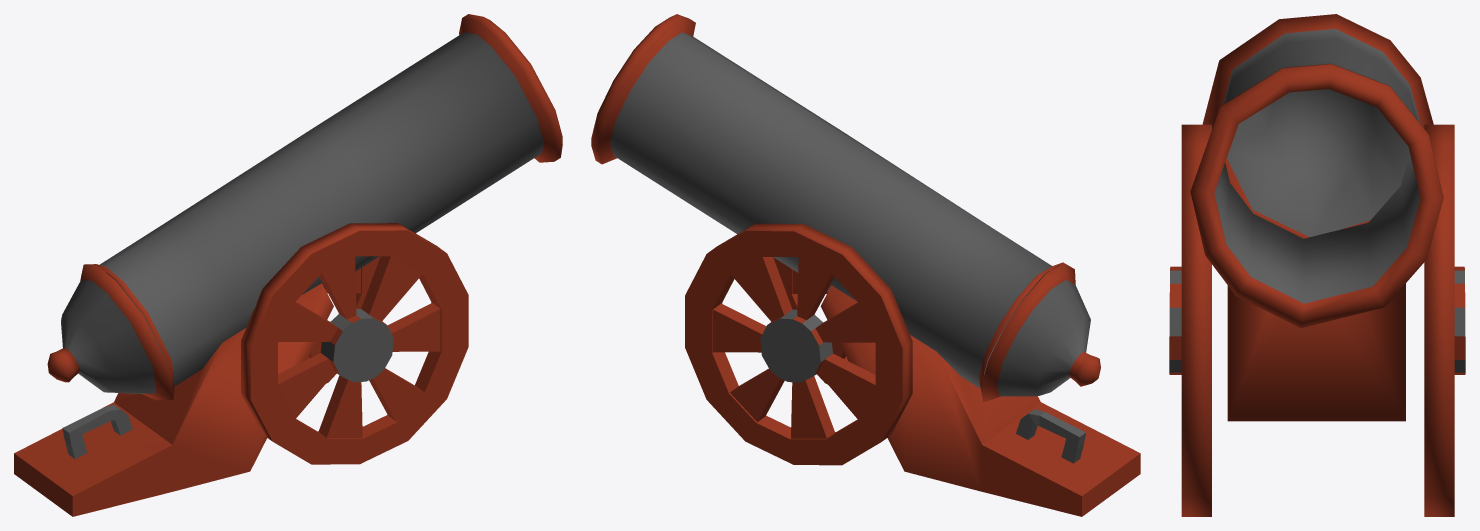
Rendered from cannonf.fbx.
The picture shows the model from 3 angles, left to right: view 1: azimuth 30°, elevation 25°; view 2: azimuth 150°, elevation 25°; view 3: azimuth 270°, elevation 25°; orthographic projection. The views are drawn at different scales.
Visible parts, largest first — view 1: canon, whee;l.001, stand, lid, whee;l; view 2: canon, whee;l, stand, lid, whee;l.001; view 3: canon, lid, stand, whee;l.001, whee;l.
Boxes of the visible parts, bbox=[...] form: canon: bbox=[85, 14, 562, 399]; whee;l.001: bbox=[241, 223, 468, 464]; stand: bbox=[14, 283, 333, 516]; lid: bbox=[47, 264, 173, 400]; whee;l: bbox=[307, 256, 380, 383]; canon: bbox=[591, 14, 1063, 401]; whee;l: bbox=[685, 223, 912, 465]; stand: bbox=[820, 285, 1140, 516]; lid: bbox=[981, 262, 1100, 401]; whee;l.001: bbox=[773, 257, 847, 384]; canon: bbox=[1190, 14, 1443, 328]; lid: bbox=[1225, 14, 1409, 238]; stand: bbox=[1227, 283, 1405, 421]; whee;l.001: bbox=[1169, 124, 1211, 516]; whee;l: bbox=[1424, 124, 1465, 516].
Bounding box in the file's own units: 174 × 123 × 58.67.
